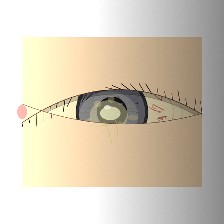corneal_ulcer: (78, 91, 140, 141)
